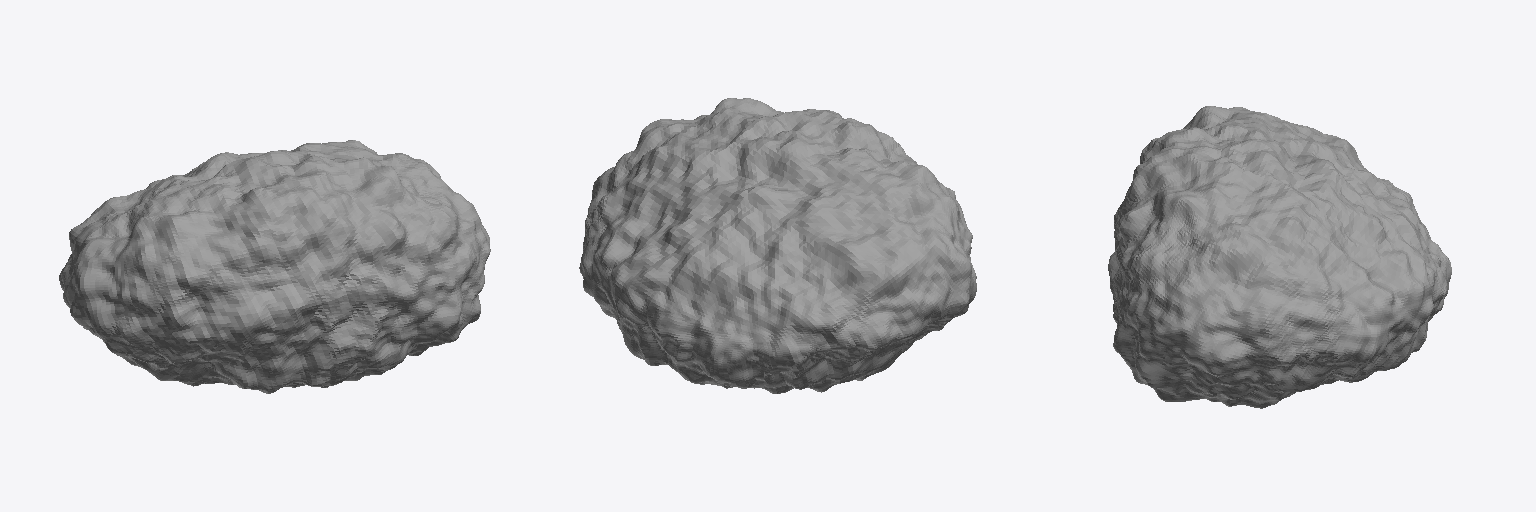
The model's file is Asteroid_6.obj.
3 views of the same model, side by side, from view 1: azimuth 30°, elevation 25°; view 2: azimuth 150°, elevation 25°; view 3: azimuth 270°, elevation 25° (orthographic).
Visible parts, largest first — view 1: Cube; view 2: Cube; view 3: Cube.
Part boxes in pixels (x1,y1,x2,y2): Cube: (59, 140, 490, 393); Cube: (579, 98, 976, 393); Cube: (1108, 106, 1451, 408).
Bounding box in the file's own units: 1.54 × 0.8386 × 1.19.